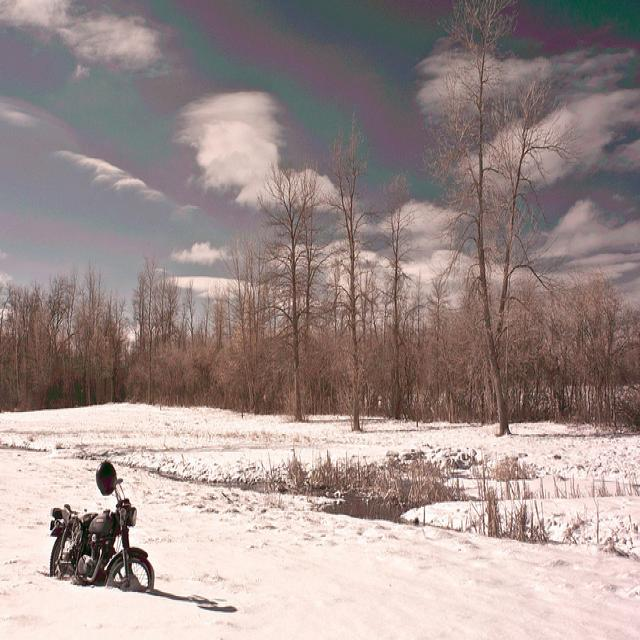motor: (49, 460, 156, 593)
